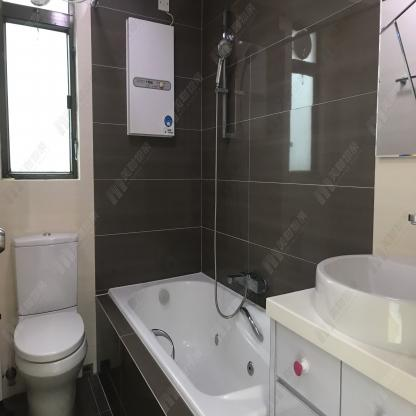Bathtub: (95, 273, 271, 416)
Toilet: (11, 231, 87, 416)
Toilet Sink: (315, 252, 416, 355)
Water Heater: (126, 17, 174, 138)
